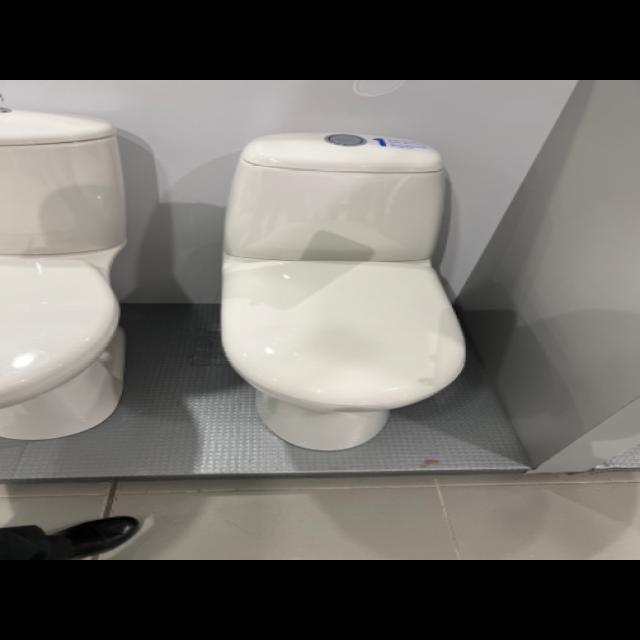toilet: (218, 130, 466, 450), (0, 106, 128, 440)
